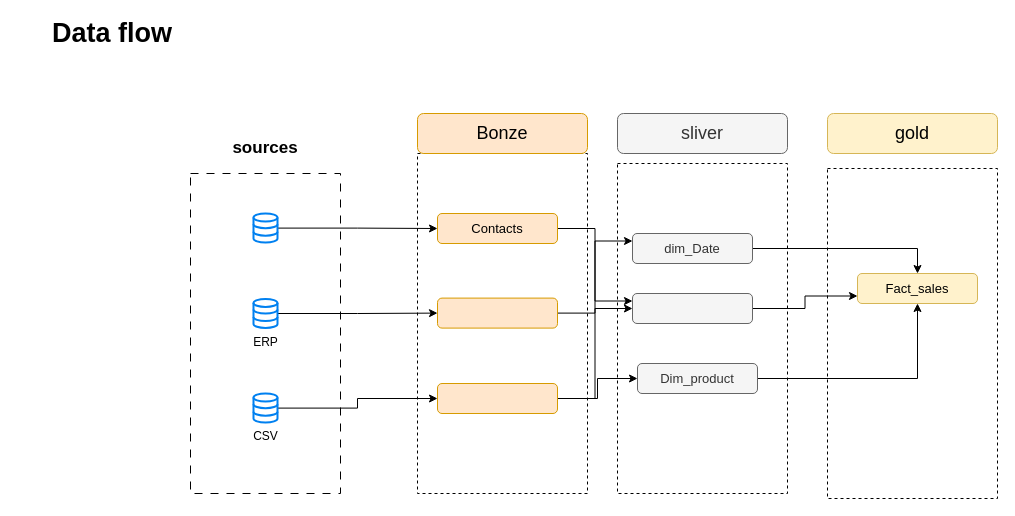
Image size: 1015x516. Some labels were removed from this diagram. The centre of each missing label's shape, as x and y in pixels:
CRM: (x=265, y=227)
customer: (x=497, y=312)
Dim_customer: (x=692, y=308)
sales: (x=497, y=398)
